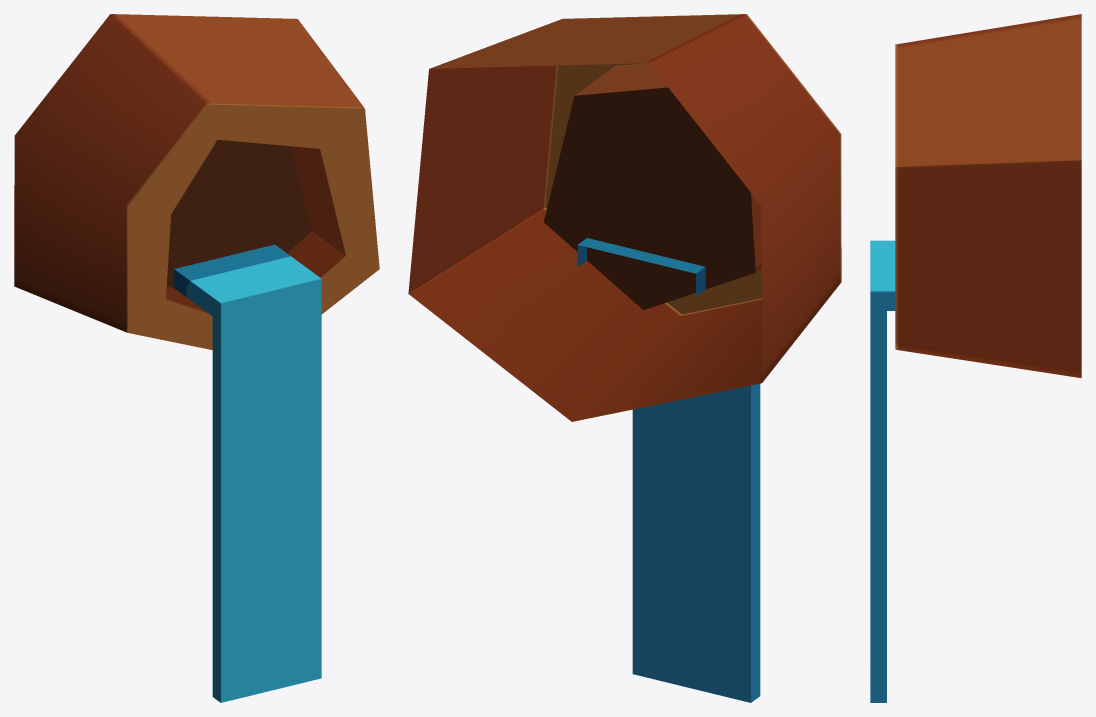
The model's file is Pirate_Ship_We_Outfall_001.FBX.
The picture shows the model from 3 angles, left to right: view 1: azimuth 30°, elevation 25°; view 2: azimuth 150°, elevation 25°; view 3: azimuth 270°, elevation 25°; orthographic projection. The views are drawn at different scales.
Parts seen in each view (by area): view 1: Pirate_Ship_We_Outfall_001; view 2: Pirate_Ship_We_Outfall_001; view 3: Pirate_Ship_We_Outfall_001.
Boxes of the visible parts, box(x1,y1,x2,y2) form: Pirate_Ship_We_Outfall_001: box(14, 14, 379, 702); Pirate_Ship_We_Outfall_001: box(408, 14, 841, 702); Pirate_Ship_We_Outfall_001: box(870, 14, 1081, 702).
Bounding box in the file's own units: 2.18 × 4.25 × 1.28.
